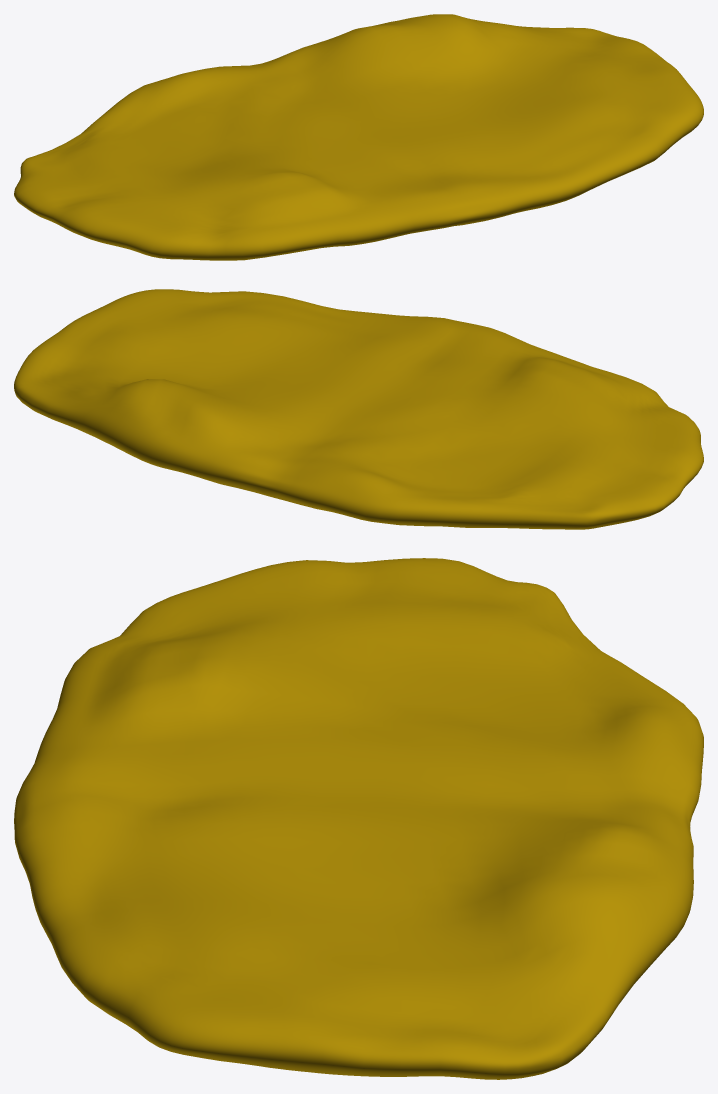
The model's file is Cornflake_baked.fbx.
The picture shows the model from 3 angles, top to bottom: view 1: azimuth 30°, elevation 25°; view 2: azimuth 150°, elevation 25°; view 3: azimuth 270°, elevation 25°; orthographic projection. The views are drawn at different scales.
Visible parts, largest first — view 1: Arena_Cookie_Cookies; view 2: Arena_Cookie_Cookies; view 3: Arena_Cookie_Cookies.
Boxes of the visible parts, <box> form: Arena_Cookie_Cookies: <box>14,14,703,260</box>; Arena_Cookie_Cookies: <box>14,289,703,529</box>; Arena_Cookie_Cookies: <box>14,558,703,1079</box>.
Size of the model in its own units: 16580 by 1877 by 9709.
